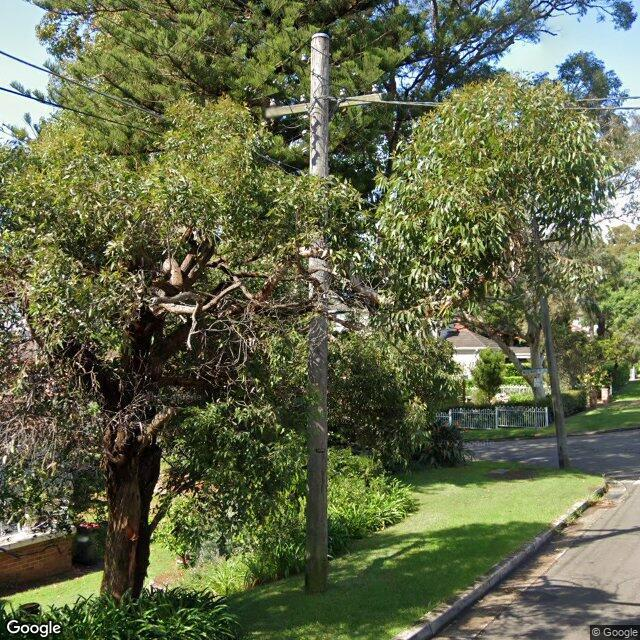crossarm: (262, 91, 386, 119)
timber-pole: (305, 30, 333, 595), (531, 212, 573, 472)
